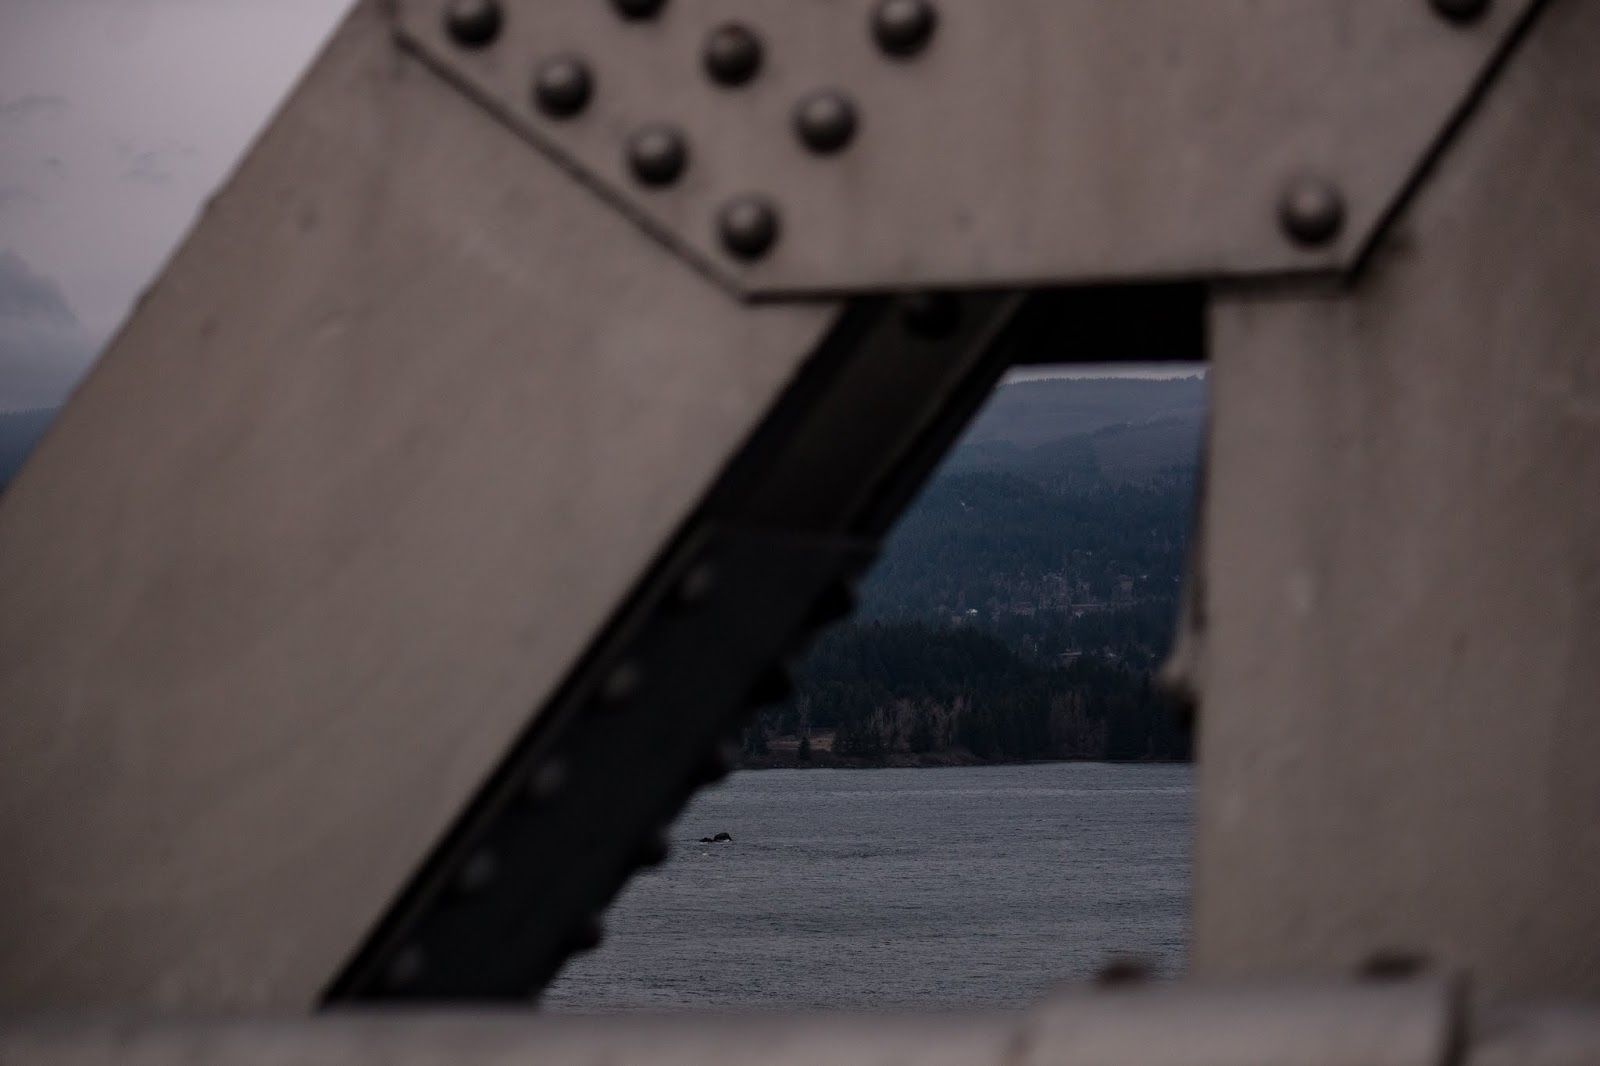rivet: (1270, 178, 1357, 257), (694, 18, 770, 95), (785, 89, 862, 165), (526, 56, 603, 124), (862, 1, 945, 63), (711, 197, 784, 266), (621, 124, 691, 189), (431, 2, 520, 54)
